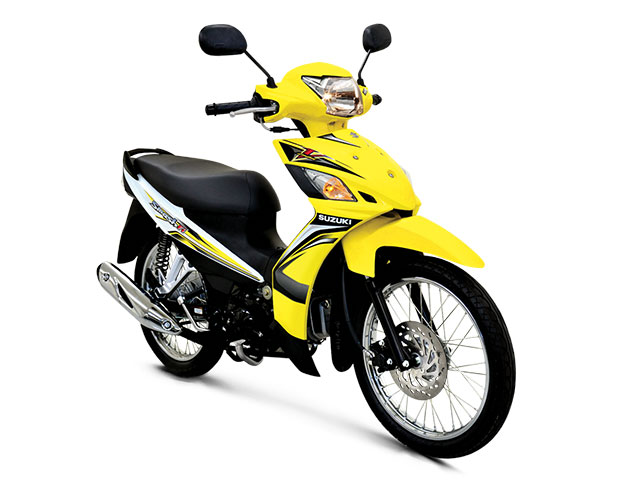motorcycle: (94, 63, 513, 460)
